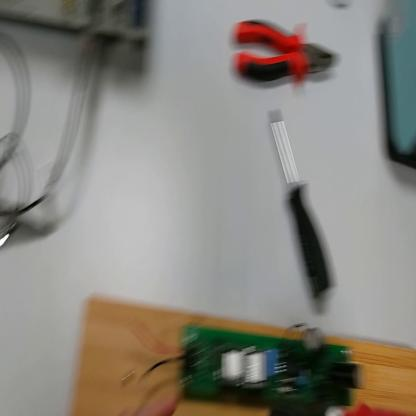electric screwdriver: (267, 400, 406, 412)
hand: (143, 381, 189, 409)
high voltage board: (151, 311, 379, 405)
oscilloscope: (2, 2, 153, 49)
oscilloscope probe tip: (4, 206, 60, 243)
pliers: (232, 20, 338, 91)
screwdriver-: (272, 111, 332, 303)
welder station: (380, 2, 415, 168)
working area: (63, 288, 415, 415)
